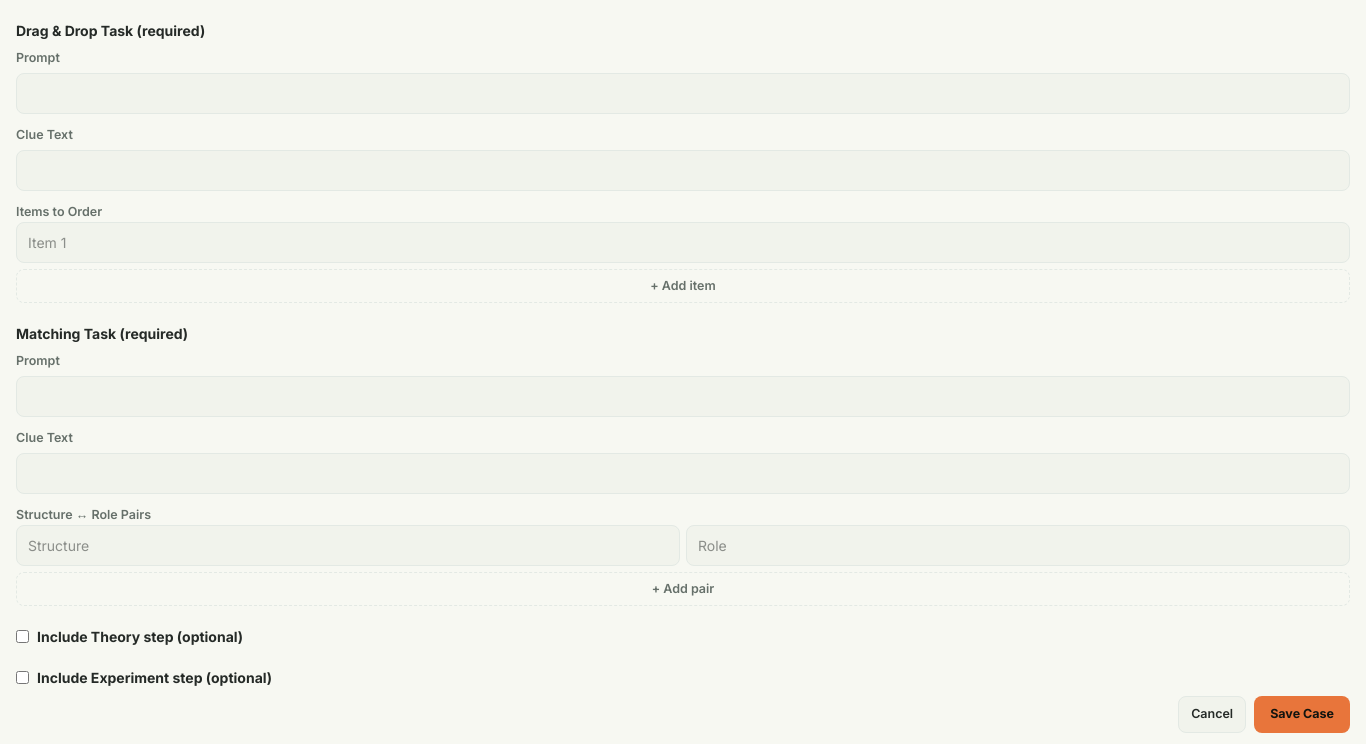
Test: AdminCaseEditor › matching pairs: '+ Add pair' appends a blank pair; single pair has no remove button
This screenshot has width=1366, height=744.
(page scrolled)
Expected: the number of fields with placeholder "Structure" is 1, [16,524,680,566]
Click the button "+ Add pair" at (683,589), box [16,572,1350,606]
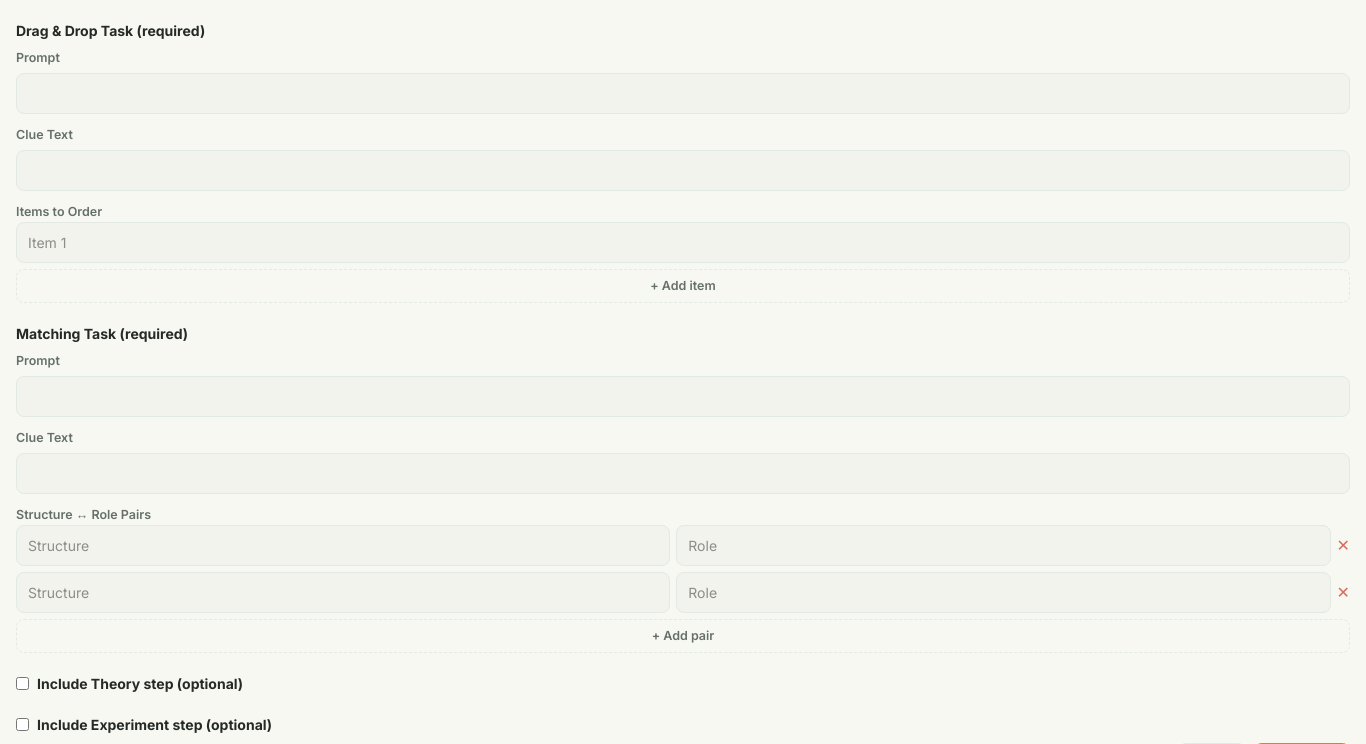
Expected: the number of fields with placeholder "Structure" is 2, [16,524,670,566]; [16,572,670,612]
Expected: the number of fields with placeholder "Role" is 2, [676,524,1331,566]; [676,572,1331,612]
